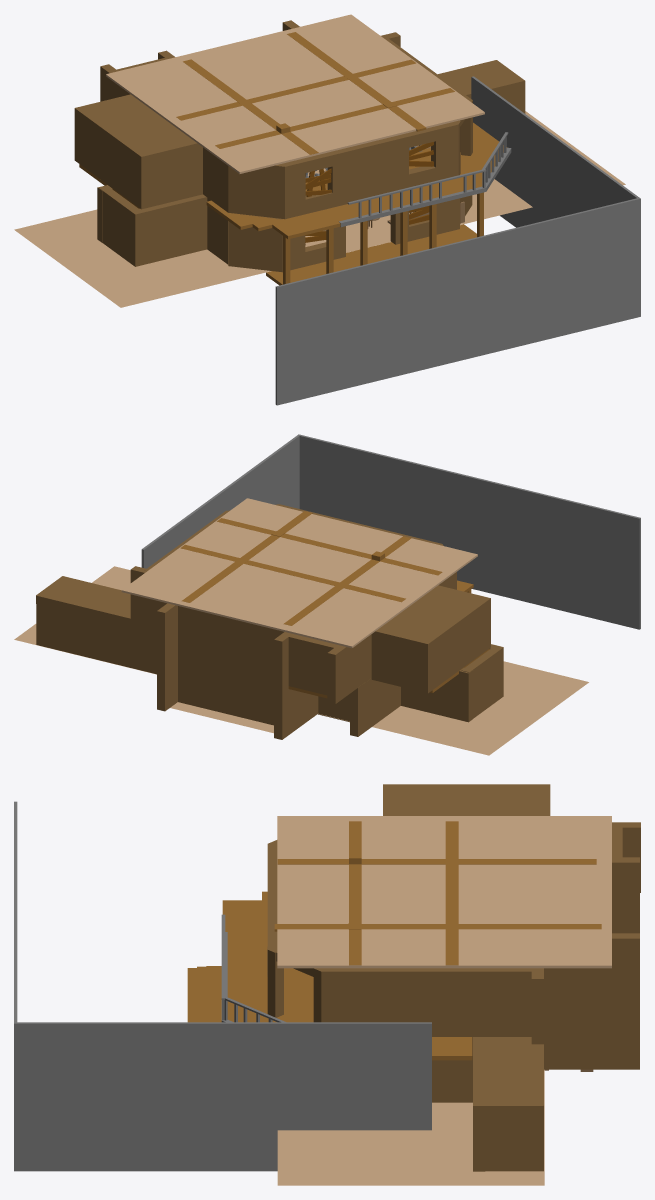
File: Saloon V1 1.fbx
3 views of the same model, one above another, from view 1: azimuth 30°, elevation 25°; view 2: azimuth 150°, elevation 25°; view 3: azimuth 270°, elevation 25° (orthographic). The views are drawn at different scales.
Visible parts, largest first — view 1: Cube, Ceiling, Floor, Cube__1__1, Cube__37_, Cube__39_, Cube__29_, Cube__40_, BarTop__22_, BarTop__12_, Cube__34_, Cube__33_ (+17 smaller); view 2: Cube, Ceiling, Floor, Cube__2__1, Cube__1__1, Cube__42_, Cube__45_, Cube__40_, BarTop__22_, Cube__30_, Cube__13_, Cube__38_ (+15 smaller); view 3: Cube__1__1, Ceiling, Floor, Cube__31_, Cube__5__1, Cube__43_, BarTop__22_, BarTop__12_, Cube__4__1, Cube__44_, Pillar__5_, Pillar__3_ (+16 smaller).
Part boxes in pixels (left/top/right/bottom): Cube: left=275, top=198, right=638, bottom=405; Ceiling: left=106, top=14, right=484, bottom=173; Floor: left=14, top=111, right=625, bottom=307; Cube__1__1: left=471, top=76, right=640, bottom=316; Cube__37_: left=327, top=134, right=408, bottom=207; Cube__39_: left=136, top=139, right=202, bottom=209; Cube__29_: left=139, top=194, right=207, bottom=264; Cube__40_: left=79, top=109, right=144, bottom=205; BarTop__22_: left=79, top=98, right=191, bottom=159; BarTop__12_: left=270, top=178, right=482, bottom=239; Cube__34_: left=228, top=162, right=286, bottom=219; Cube__33_: left=99, top=185, right=143, bottom=266; Cube: left=299, top=435, right=640, bottom=629; Ceiling: left=121, top=498, right=477, bottom=648; Floor: left=14, top=566, right=588, bottom=755; Cube__2__1: left=178, top=606, right=283, bottom=725; Cube__1__1: left=141, top=434, right=300, bottom=568; Cube__42_: left=44, top=597, right=130, bottom=667; Cube__45_: left=371, top=628, right=432, bottom=693; Cube__40_: left=425, top=599, right=486, bottom=689; BarTop__22_: left=380, top=586, right=490, bottom=643; Cube__30_: left=401, top=668, right=473, bottom=722; Cube__13_: left=281, top=632, right=337, bottom=695; Cube__38_: left=327, top=634, right=371, bottom=703; Cube__1__1: left=14, top=1022, right=431, bottom=1171; Ceiling: left=277, top=816, right=611, bottom=968; Floor: left=277, top=1069, right=544, bottom=1185; Cube__31_: left=321, top=968, right=538, bottom=1036; Cube__5__1: left=544, top=1004, right=639, bottom=1069; Cube__43_: left=473, top=1037, right=543, bottom=1117; BarTop__22_: left=383, top=784, right=538, bottom=815; BarTop__12_: left=222, top=900, right=267, bottom=1020; Cube__4__1: left=544, top=933, right=639, bottom=1003; Cube__44_: left=485, top=1117, right=531, bottom=1171; Pillar__5_: left=274, top=924, right=601, bottom=931; Pillar__3_: left=445, top=821, right=458, bottom=965.
Bounding box in the file's own units: 2739 × 749 × 2354.
